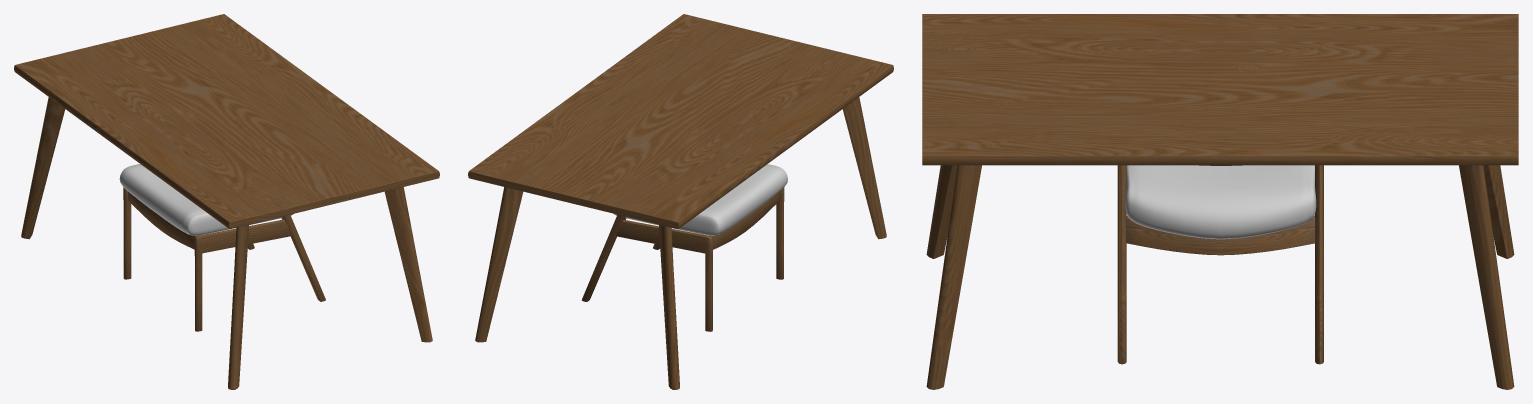
File: table.fbx
The picture shows the model from 3 angles, left to right: view 1: azimuth 30°, elevation 25°; view 2: azimuth 150°, elevation 25°; view 3: azimuth 270°, elevation 25°; orthographic projection. The views are drawn at different scales.
Parts seen in each view (by area): view 1: model_12, model_10; view 2: model_12, model_10; view 3: model_12, model_10.
Part boxes in pixels (bbox=[...]): model_12: bbox=[14, 14, 439, 389]; model_10: bbox=[119, 164, 325, 331]; model_12: bbox=[468, 14, 893, 389]; model_10: bbox=[581, 164, 787, 331]; model_12: bbox=[922, 14, 1518, 389]; model_10: bbox=[1117, 165, 1323, 364].
Size of the model in its own units: 81.03 by 62.75 by 143.
